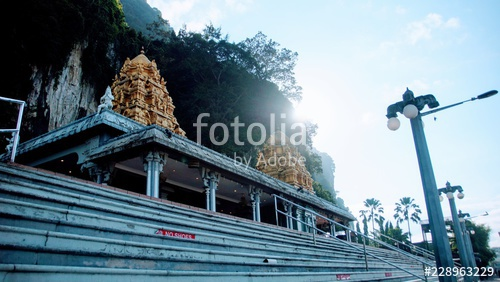Hindu Temple: (100, 47, 174, 149)
